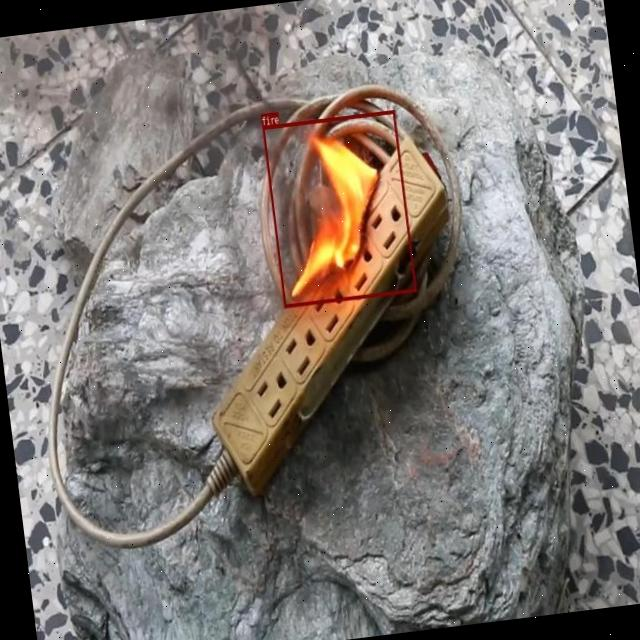fire: (261, 110, 416, 306)
